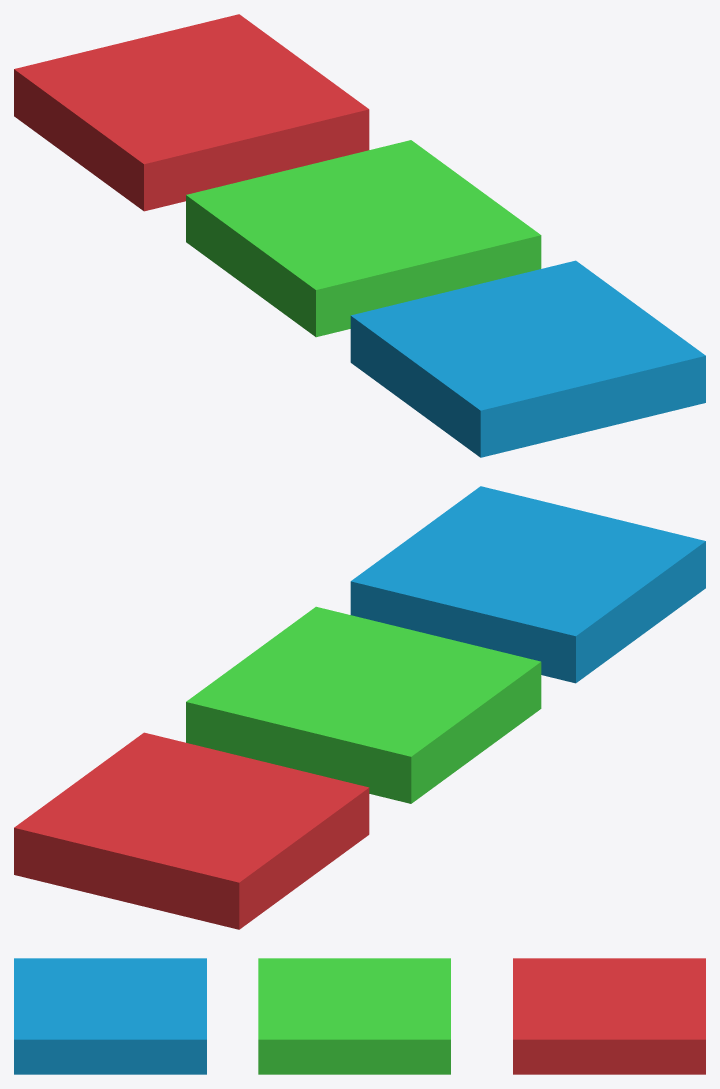
Rendered from Platform.glb.
3 views of the same model, one above another, from view 1: azimuth 30°, elevation 25°; view 2: azimuth 150°, elevation 25°; view 3: azimuth 270°, elevation 25° (orthographic). The views are drawn at different scales.
Visible parts, largest first — view 1: play_area_platform, highlight_platform, bench_platform; view 2: highlight_platform, bench_platform, play_area_platform; view 3: play_area_platform, bench_platform, highlight_platform.
Boxes of the visible parts, box(x1,y1,x2,y2) form: play_area_platform: box(350, 260, 705, 457); highlight_platform: box(14, 14, 369, 211); bench_platform: box(186, 140, 541, 337); highlight_platform: box(14, 732, 369, 929); bench_platform: box(186, 606, 541, 803); play_area_platform: box(350, 486, 705, 683); play_area_platform: box(14, 958, 206, 1074); bench_platform: box(258, 958, 450, 1074); highlight_platform: box(513, 958, 705, 1074).
Size of the model in its own units: 1 by 0.2 by 3.59.
